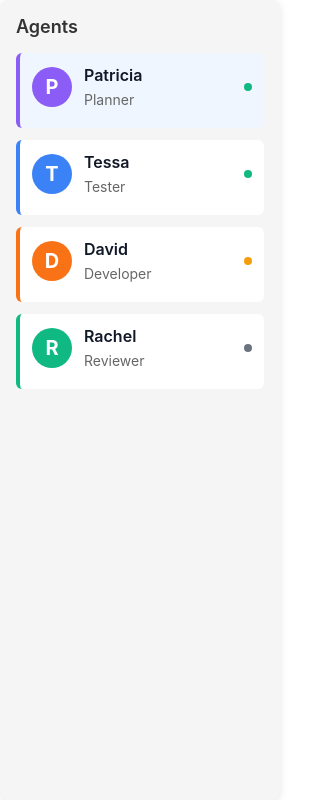
AgentSidebar › shows agent descriptions on hover
This screenshot has width=320, height=800.
Expected: the text "Patricia" is shown, [84, 65, 142, 85]
Expected: the text "Creates project plans" is not shown
// Hover to show description
Hover over the element with test id "agent-card-P" at (140, 90), box [16, 53, 264, 128]
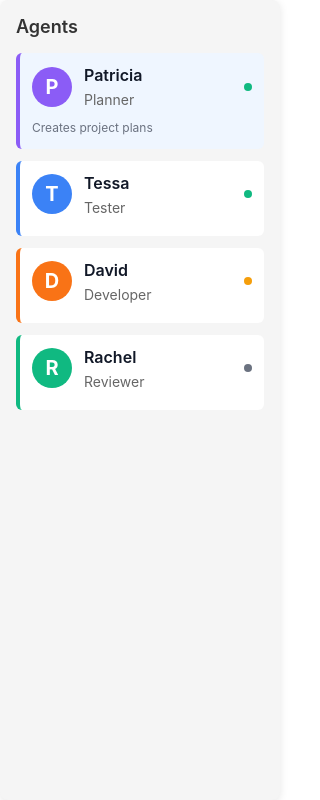
Expected: the text "Creates project plans" is shown, [32, 120, 153, 135]
// Leave to hide description
Move the pointer off the element with test id "agent-card-P", box [16, 53, 264, 149]
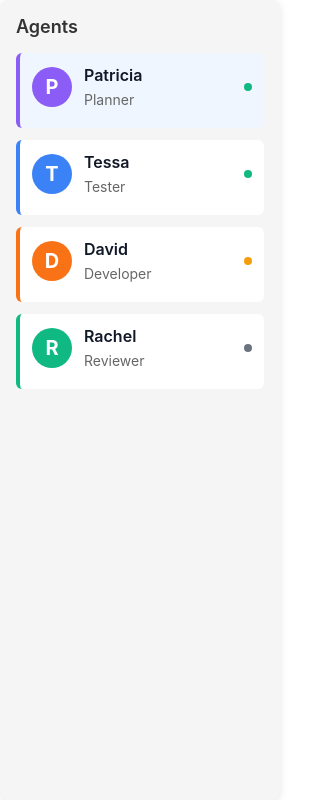
Expected: the text "Creates project plans" is gone
